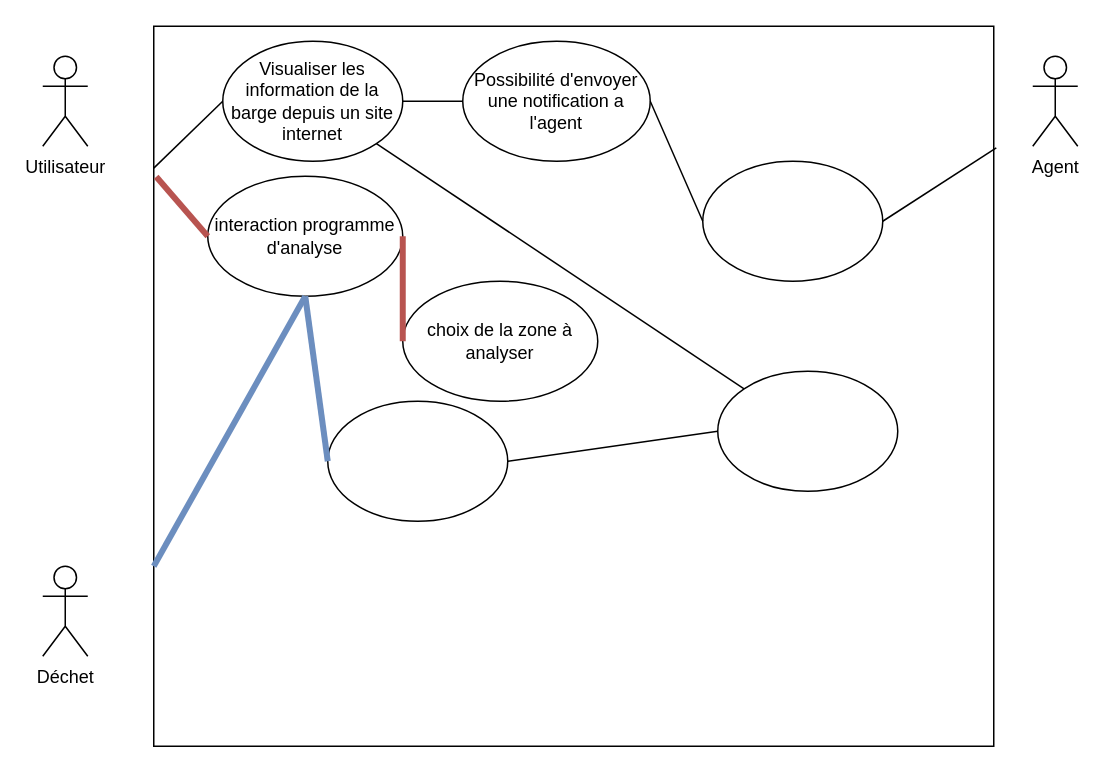
Some shapes in this 1104 by 773 pixel diagram are drawn without their labels. The shapes that lost their labels are listed below. From the top down, each one's box as (x1, y1, x2, y2) in pixels, then its label:
(701, 160, 883, 281): Notification
(716, 370, 898, 491): remplissage du bac
(326, 400, 508, 521): Si trop de déchet démarrage du tapis roulant
